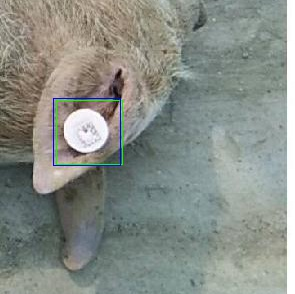text: (56, 100, 122, 164)
